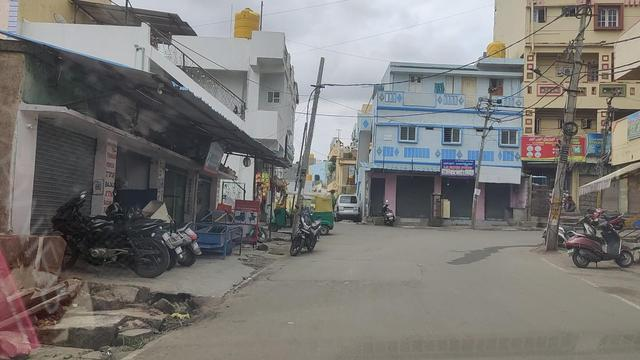RoadDamages: (269, 270, 352, 290), (412, 259, 433, 282)
